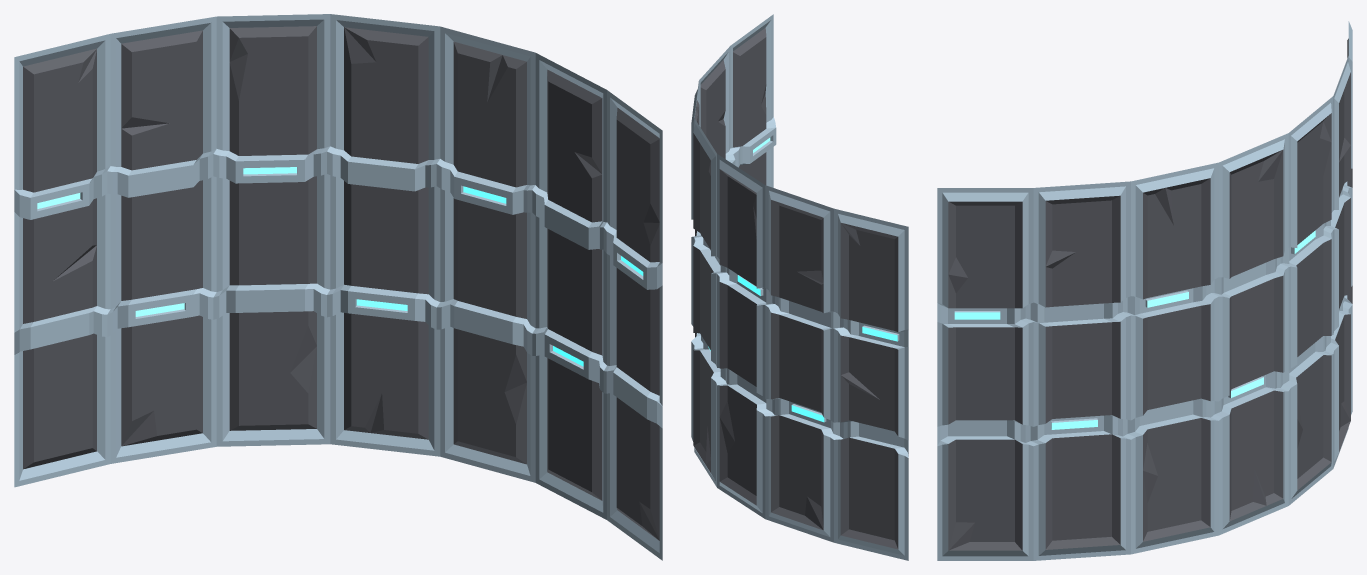
File: Wall_Large_Curved.fbx
3 renders of one model, left to right at view 1: azimuth 30°, elevation 25°; view 2: azimuth 150°, elevation 25°; view 3: azimuth 270°, elevation 25°, orthographic. The views are drawn at different scales.
Visible parts, largest first — view 1: Wall_Large_Curved; view 2: Wall_Large_Curved; view 3: Wall_Large_Curved.
Boxes of the visible parts, bbox=[...] form: Wall_Large_Curved: bbox=[14, 14, 662, 560]; Wall_Large_Curved: bbox=[691, 14, 908, 560]; Wall_Large_Curved: bbox=[937, 21, 1352, 560].
Bounding box in the file's own units: 16.15 × 16 × 16.15.
